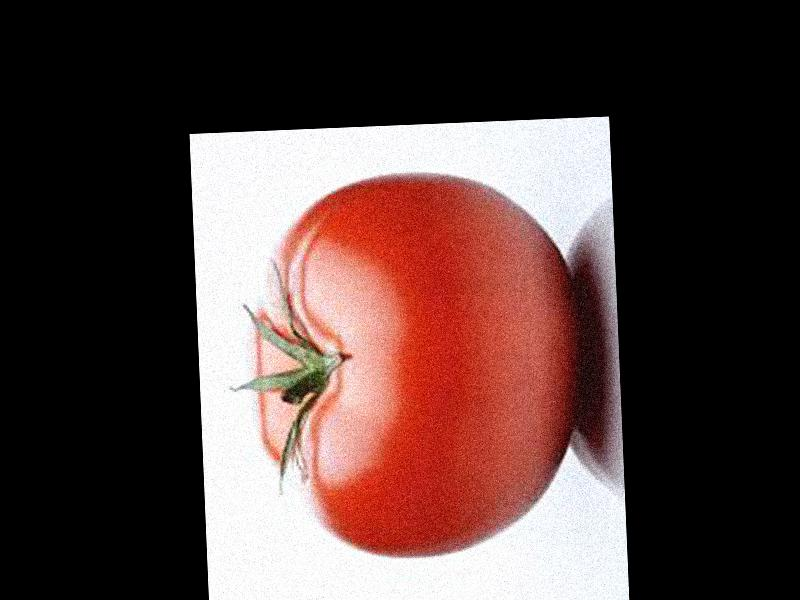Tomato: (244, 165, 584, 562)
